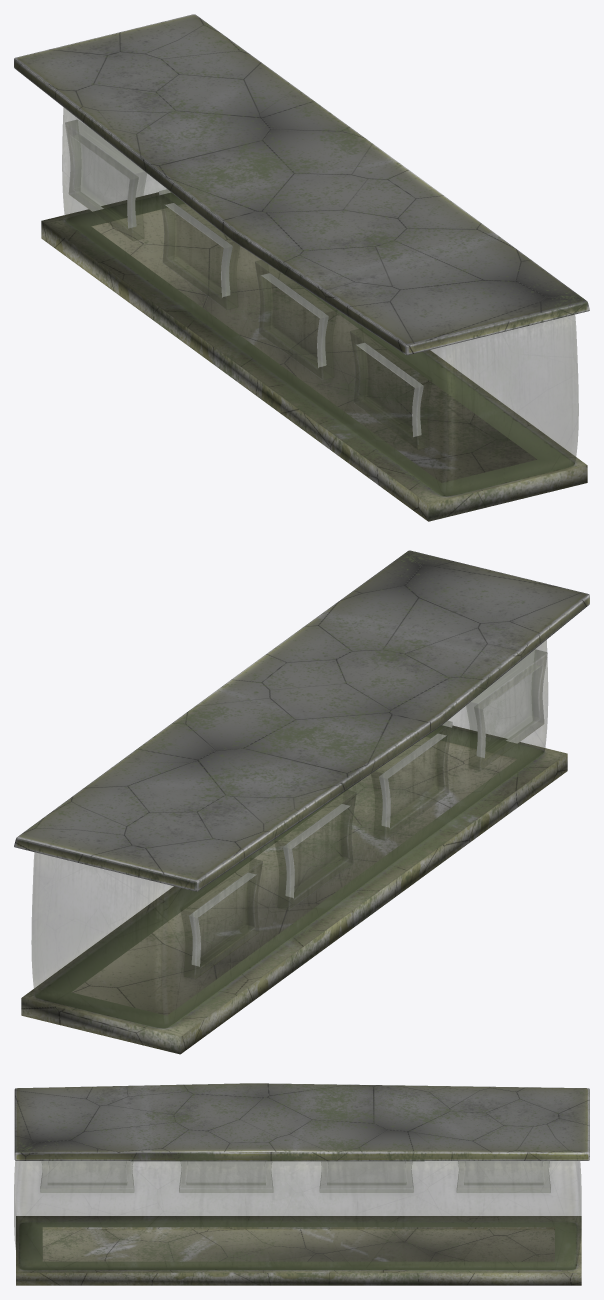
File: Barra_Pedidos_V1.glb
3 views of the same model, one above another, from view 1: azimuth 30°, elevation 25°; view 2: azimuth 150°, elevation 25°; view 3: azimuth 270°, elevation 25° (orthographic). The views are drawn at different scales.
Visible parts, largest first — view 1: Encimera, Borde_Inferior_Barra, Caja.003, Decoracion_Caja_2.007, Decoracion_Caja_2.006, Decoracion_Caja_2.008, Decoracion_Caja_2.009; view 2: Encimera, Borde_Inferior_Barra, Caja.003, Decoracion_Caja_2.006, Decoracion_Caja_2.009, Decoracion_Caja_2.007, Decoracion_Caja_2.008; view 3: Caja.003, Encimera, Borde_Inferior_Barra, Decoracion_Caja_2.006, Decoracion_Caja_2.009, Decoracion_Caja_2.007, Decoracion_Caja_2.008.
Part boxes in pixels (x1=…): Encimera: x1=14, y1=14, x2=589, y2=355; Borde_Inferior_Barra: x1=41, y1=192, x2=587, y2=521; Caja.003: x1=62, y1=107, x2=578, y2=495; Decoracion_Caja_2.007: x1=350, y1=328, x2=431, y2=449; Decoracion_Caja_2.006: x1=65, y1=120, x2=146, y2=240; Decoracion_Caja_2.008: x1=255, y1=260, x2=336, y2=379; Decoracion_Caja_2.009: x1=159, y1=189, x2=239, y2=309; Encimera: x1=14, y1=550, x2=589, y2=891; Borde_Inferior_Barra: x1=21, y1=725, x2=567, y2=1054; Caja.003: x1=31, y1=640, x2=547, y2=1027; Decoracion_Caja_2.006: x1=181, y1=858, x2=262, y2=978; Decoracion_Caja_2.009: x1=275, y1=790, x2=356, y2=910; Decoracion_Caja_2.007: x1=467, y1=649, x2=547, y2=770; Decoracion_Caja_2.008: x1=371, y1=721, x2=452, y2=839; Caja.003: x1=14, y1=1161, x2=581, y2=1269; Encimera: x1=14, y1=1083, x2=589, y2=1161; Borde_Inferior_Barra: x1=16, y1=1216, x2=581, y2=1285; Decoracion_Caja_2.006: x1=457, y1=1161, x2=550, y2=1192; Decoracion_Caja_2.009: x1=320, y1=1162, x2=413, y2=1188; Decoracion_Caja_2.007: x1=40, y1=1161, x2=133, y2=1188; Decoracion_Caja_2.008: x1=179, y1=1162, x2=272, y2=1191.
Size of the model in its own units: 1.02 by 0.9105 by 3.55.
3 materials, 3 textured.
